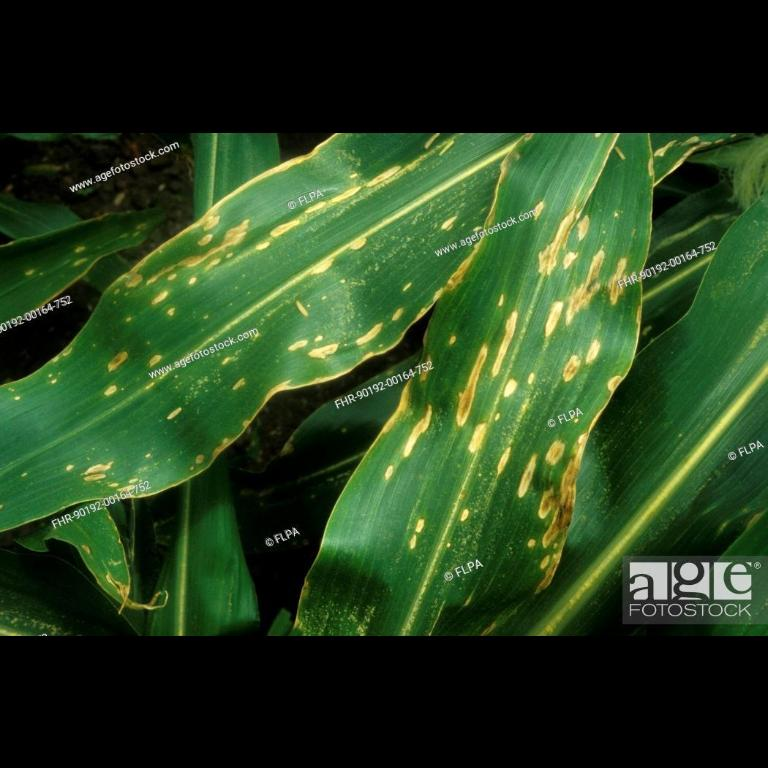blight: (468, 295, 550, 477)
